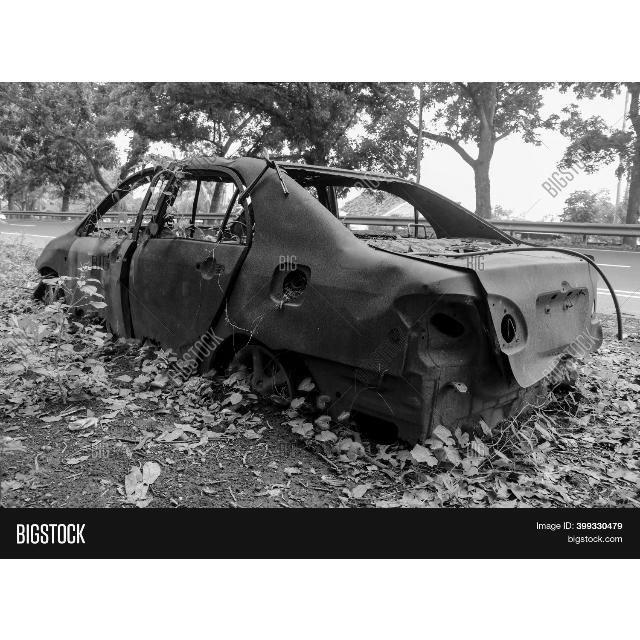Rear-windscreen-Damage: (305, 171, 509, 252)
Taillight-Damage: (410, 290, 523, 363)
doorouter-dent: (67, 235, 137, 338)
quaterpanel-dent: (330, 260, 416, 333), (261, 253, 320, 309)
roof-dent: (182, 155, 289, 174)
